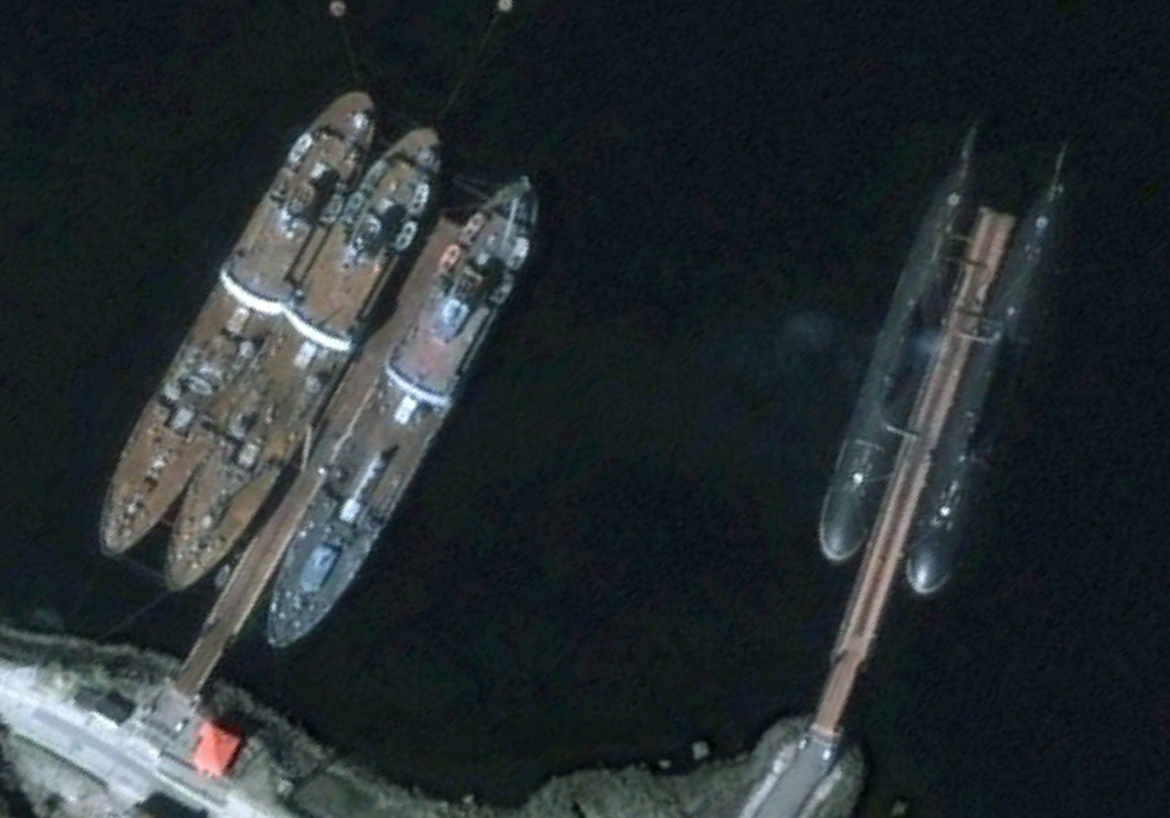merchant ship: (95, 89, 376, 558), (163, 125, 444, 594), (266, 174, 539, 650)
submarine: (903, 143, 1070, 597), (816, 123, 987, 563)
